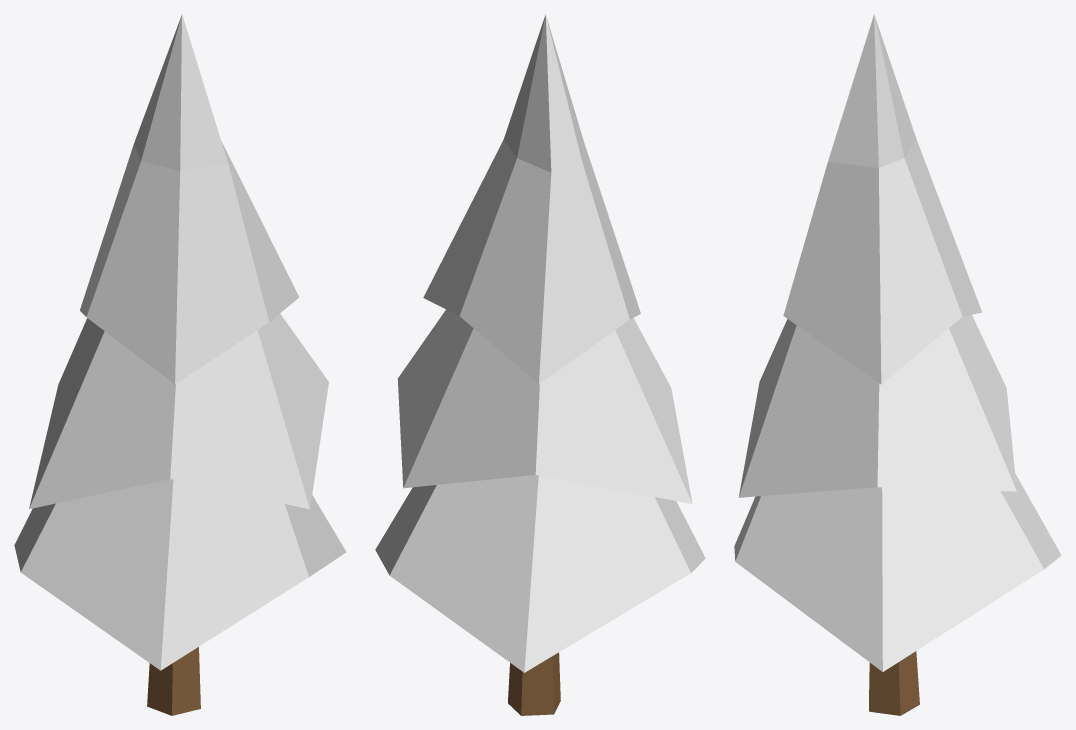
File: Pine_Tree_s_Snow_01_LOD.fbx
3 renders of one model, left to right at view 1: azimuth 30°, elevation 25°; view 2: azimuth 150°, elevation 25°; view 3: azimuth 270°, elevation 25°, orthographic.
Parts seen in each view (by area): view 1: Pine_Tree_s_Snow_01_LOD0; view 2: Pine_Tree_s_Snow_01_LOD0; view 3: Pine_Tree_s_Snow_01_LOD0.
Boxes of the visible parts, x1=… form: Pine_Tree_s_Snow_01_LOD0: x1=14, y1=14, x2=346, y2=715; Pine_Tree_s_Snow_01_LOD0: x1=375, y1=14, x2=705, y2=715; Pine_Tree_s_Snow_01_LOD0: x1=734, y1=14, x2=1061, y2=715.
Size of what is drawn, in the model's own units: 133 by 274 by 118.
